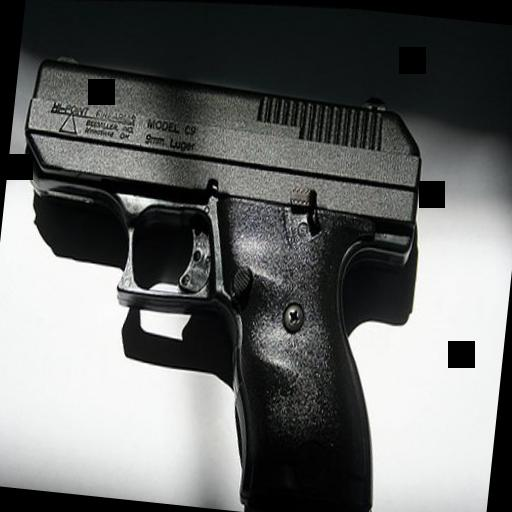Handgun: (0, 50, 433, 512)
